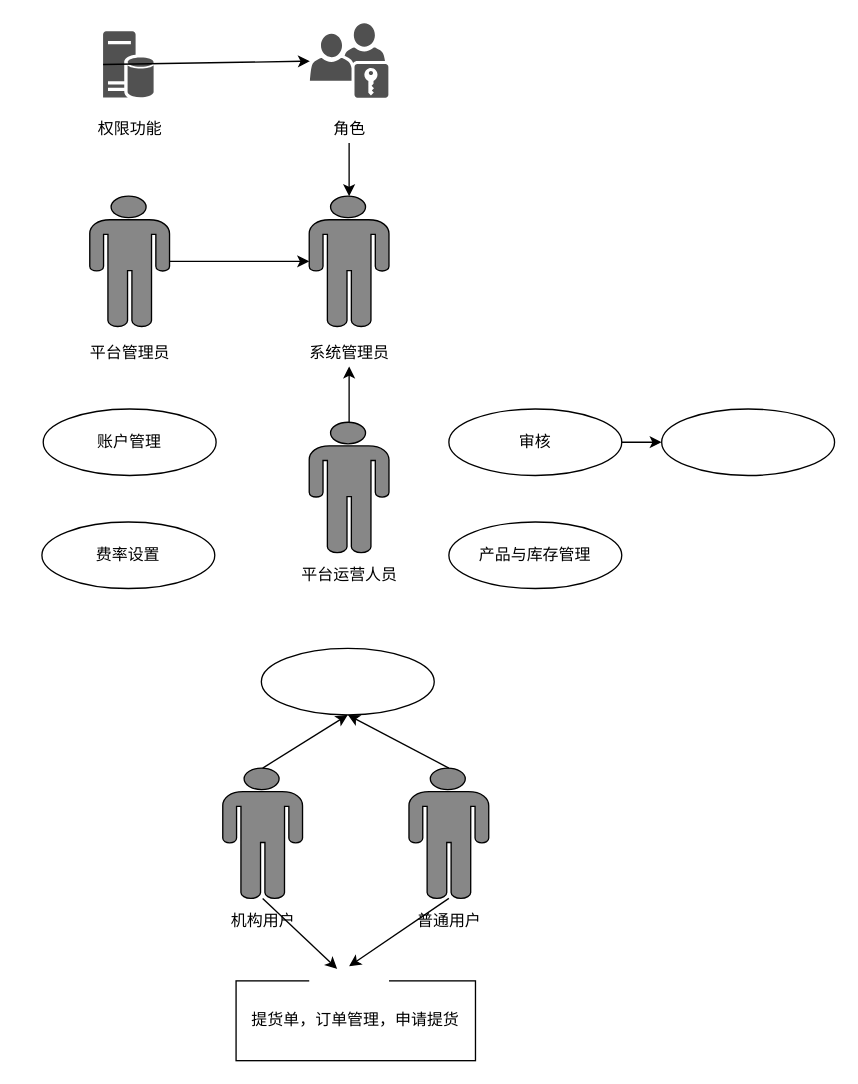
Image size: 858x1084. Some labels were removed from this diagram. The shapes that lost their labels are listed below. From the top down, each one's centre as x and y in pixels, then its label:
At (x=747, y=441): "注册，入驻 风控".
At (x=347, y=681): "用户管理".
At (x=348, y=980): "交易中心".
